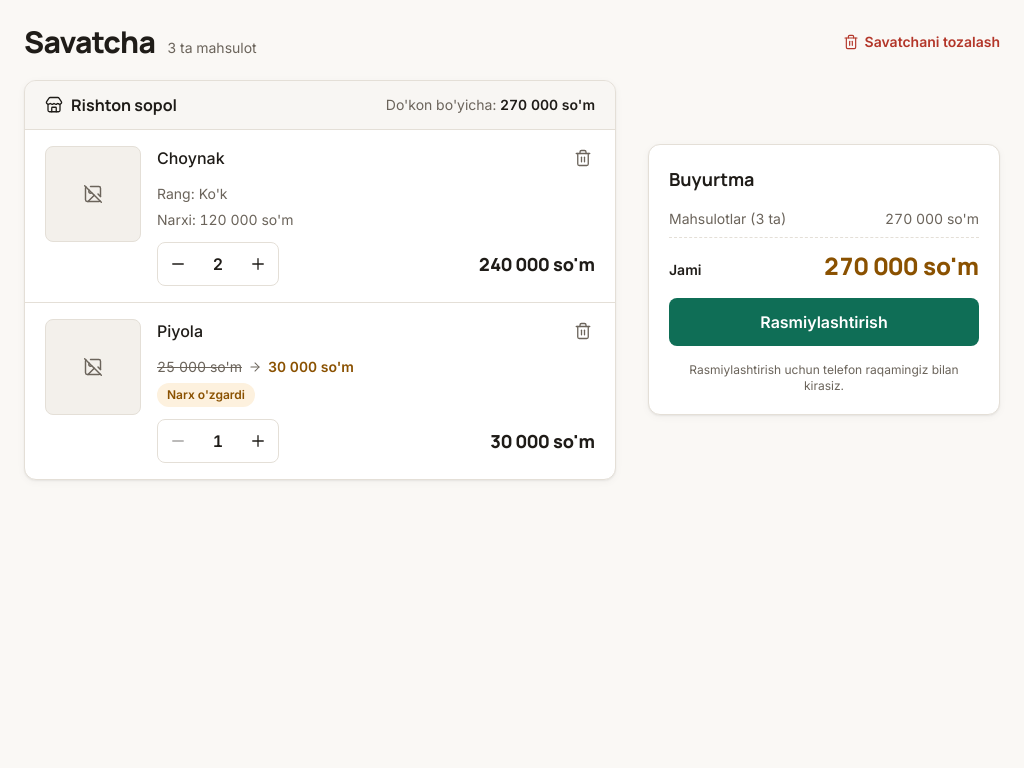
CartPage › removes a line and clears the cart after confirmation
Step 1. Click the button named "Piyola: savatchadan o'chirish" → click(583, 331), box [563,311,603,351]
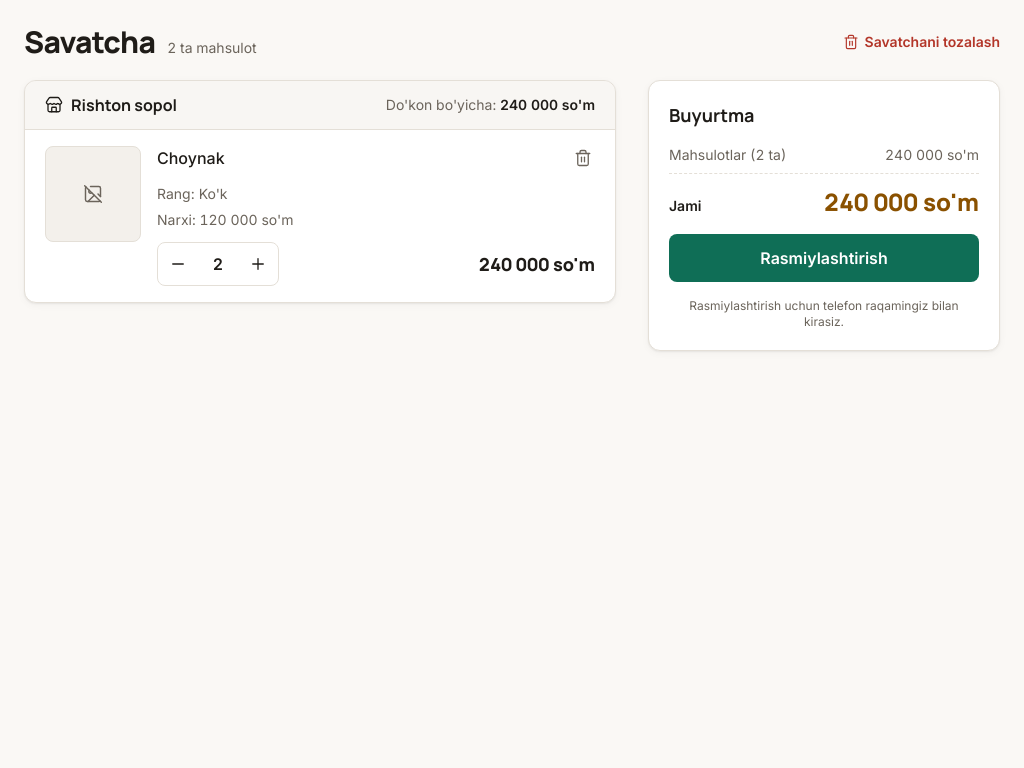
Expected: the link "Piyola" is gone
Expected: the text "2 ta mahsulot" is shown, [167,38,257,58]
Step 2. Click the button "Savatchani tozalash" → click(921, 42), box [831,24,1012,60]
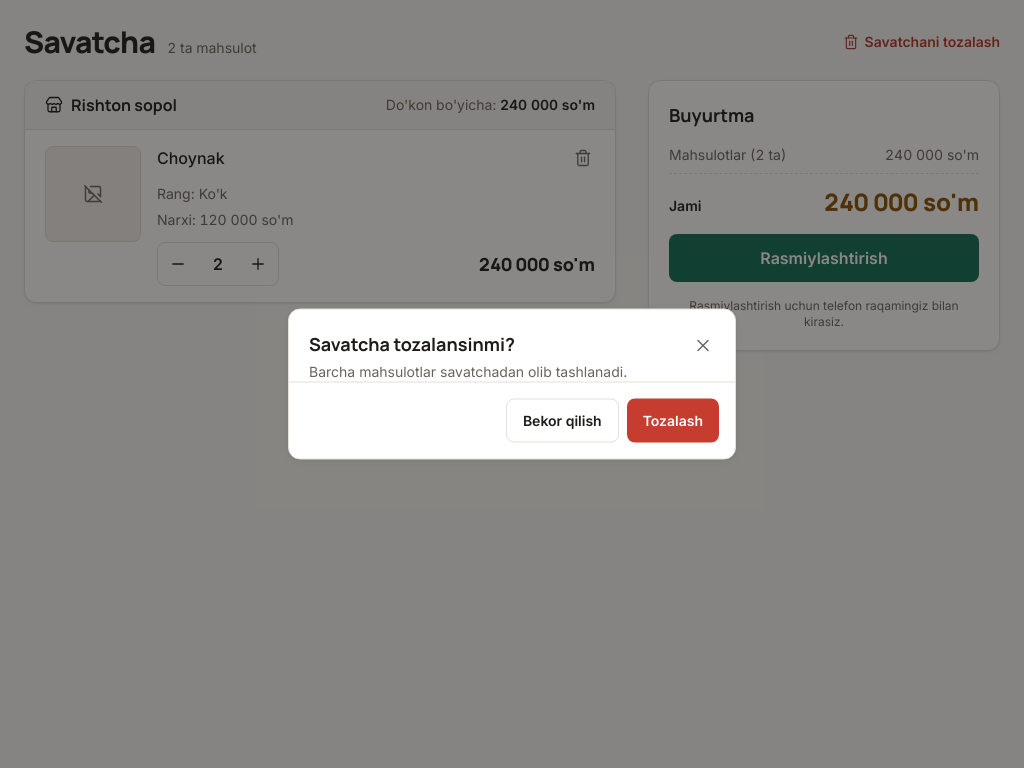
Step 3. Click the button "Tozalash" → click(673, 420), box [627,398,719,442]
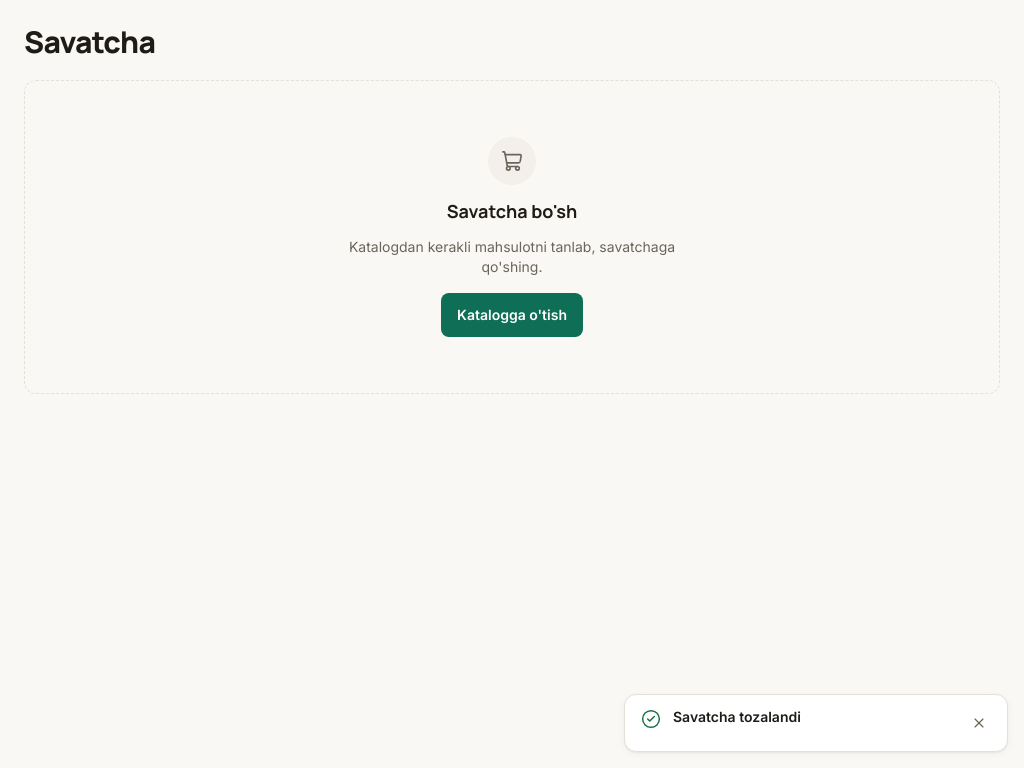
Expected: the heading "Savatcha bo'sh" is shown, [447,197,577,225]
